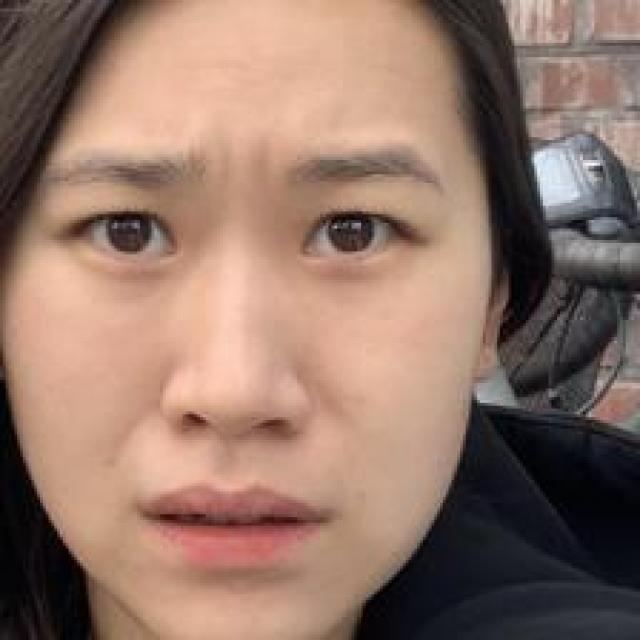fear: (8, 112, 450, 616)
